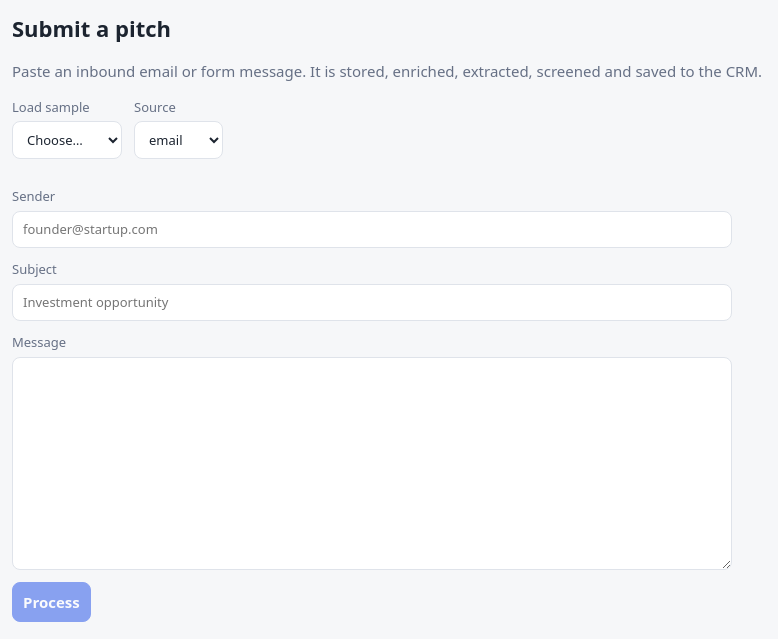
Test: SubmitPage › loads a sample into the form
Select "Clean pitch" in the dropdown labelled "Load sample" at (67, 140), box [12, 121, 122, 159]
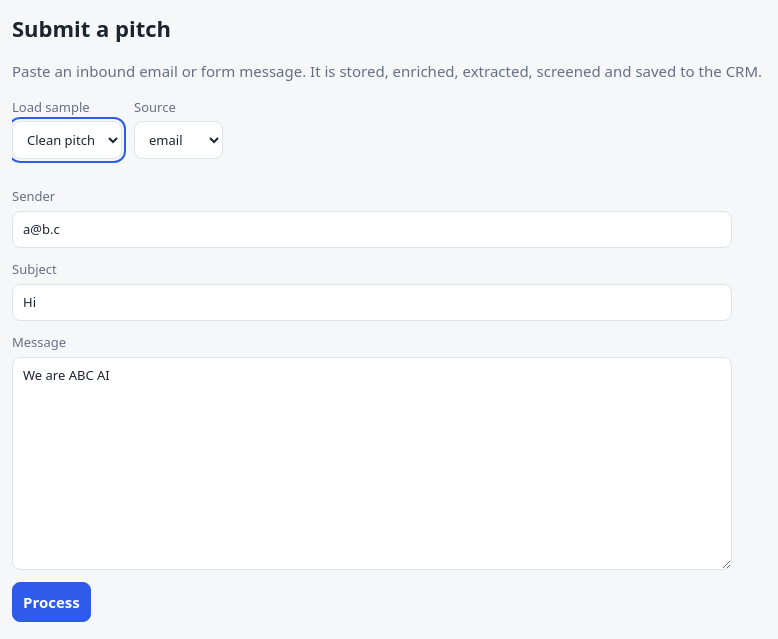
expect the text box labelled "Message" holds "We are ABC AI": met, box [12, 356, 732, 570]
expect the field labelled "Subject" holds "Hi": met, box [12, 284, 732, 321]
